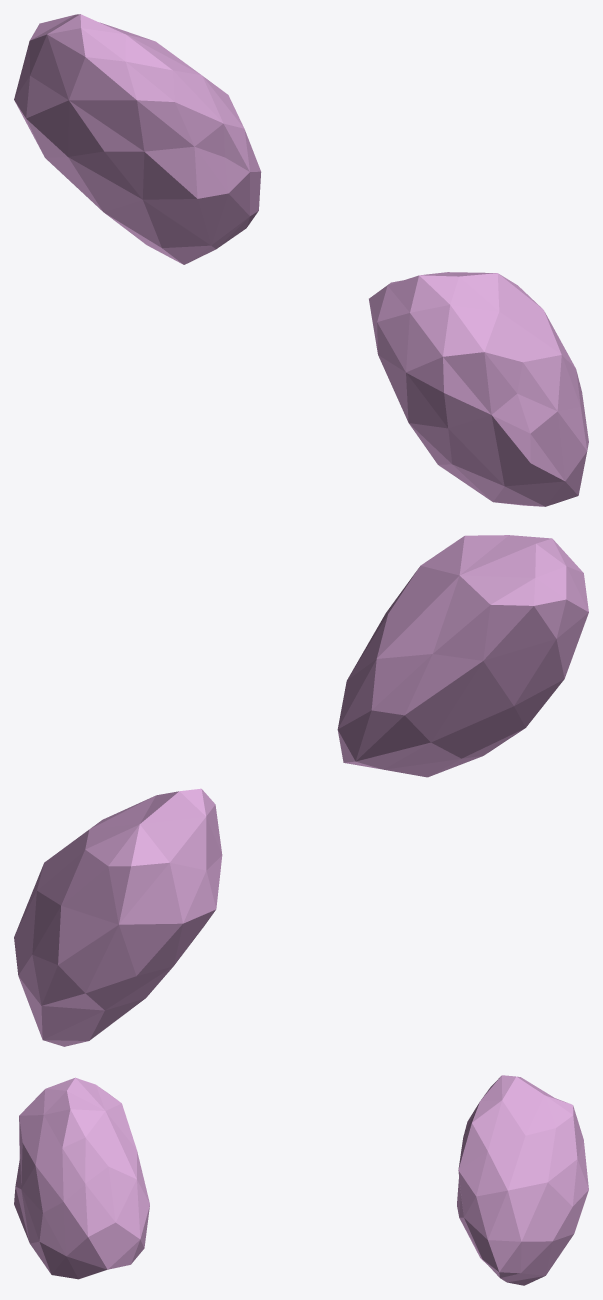
3 renders of one model, top to bottom at view 1: azimuth 30°, elevation 25°; view 2: azimuth 150°, elevation 25°; view 3: azimuth 270°, elevation 25°, orthographic. The views are drawn at different scales.
Parts seen in each view (by area): view 1: 531.obj; view 2: 531.obj; view 3: 531.obj.
Boxes of the visible parts, left/top/right/bottom form: 531.obj: left=14, top=14, right=588, bottom=506; 531.obj: left=14, top=535, right=588, bottom=1046; 531.obj: left=14, top=1075, right=588, bottom=1285.
Bounding box in the file's own units: 271 × 339 × 1006.
